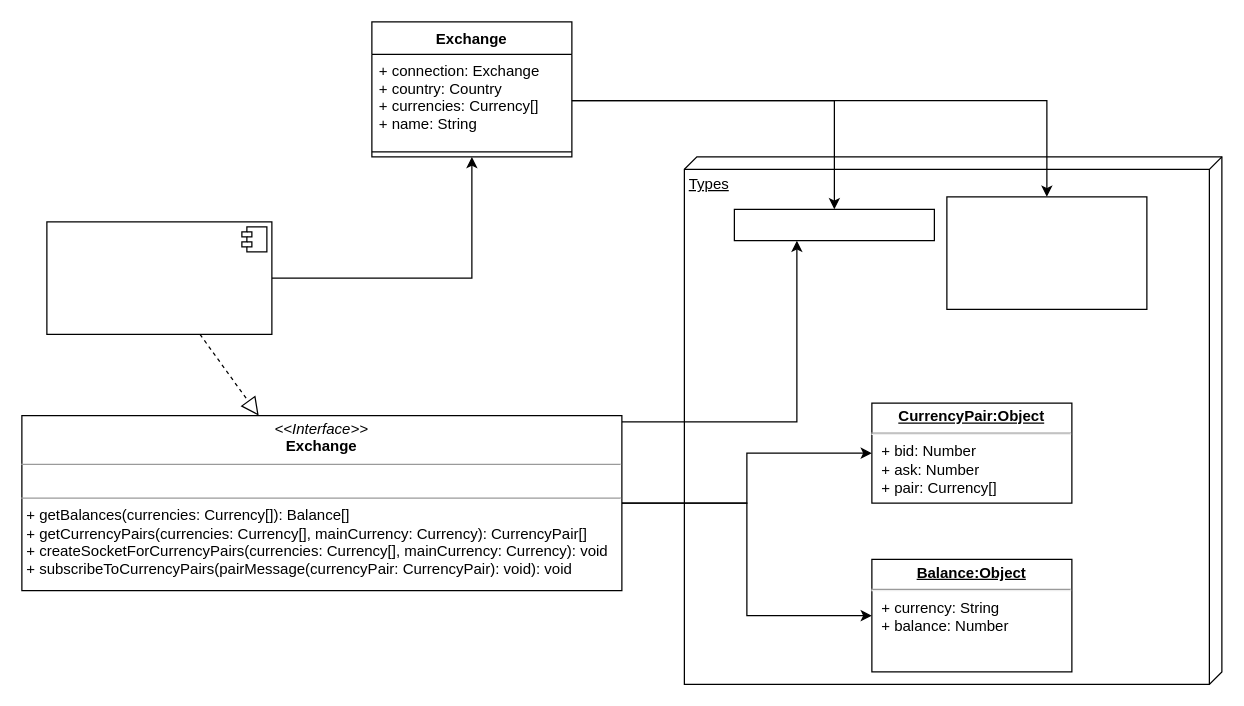
Some shapes in this 1244 by 706 pixel diagram are drawn without their labels. Here are the shapes that lost their labels. From the top down, the centre of each, then its label:
the point at 833,224: Currency:String
the point at 1046,252: Country:Object + currency: Currency + ISO: String
the point at 159,277: CoinMate + publicKey: String + privateKey: String + clientId: Number
